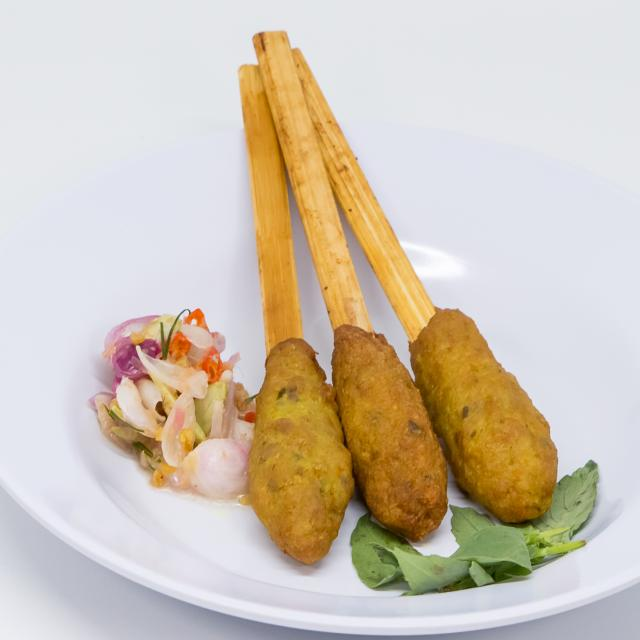Sate-Lilit: (55, 148, 616, 600)
